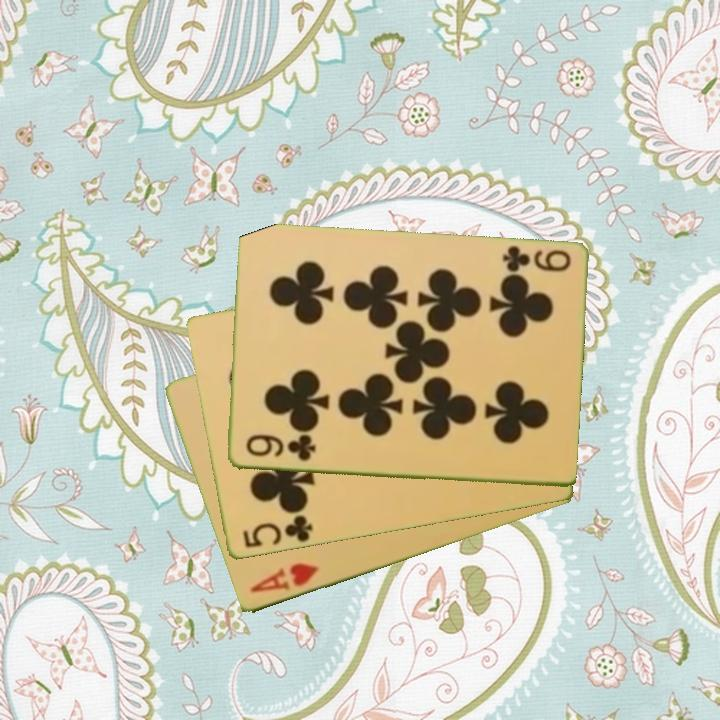5c: (239, 512, 316, 552)
9c: (498, 242, 573, 275), (242, 432, 319, 464)
Ah: (247, 559, 321, 596)
